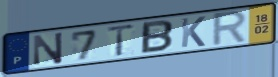7: (70, 28, 100, 62)
B: (139, 19, 175, 55)
K: (179, 15, 207, 50)
N: (31, 30, 65, 67)
R: (211, 9, 250, 49)
T: (105, 22, 137, 58)
